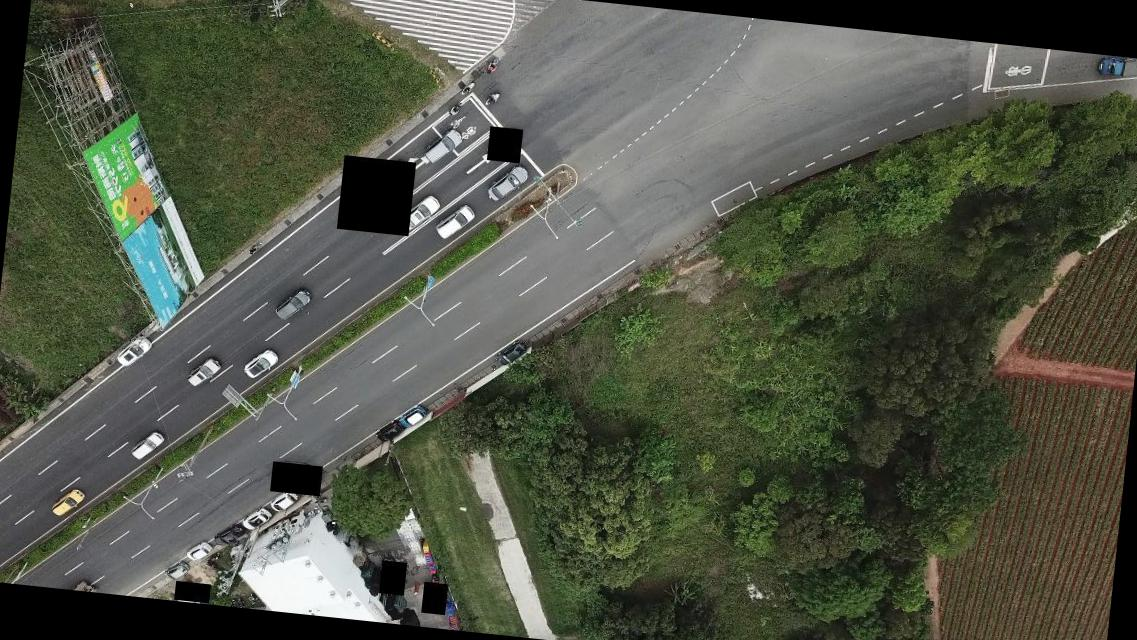vehicle: (487, 161, 528, 204), (398, 192, 439, 234), (422, 127, 462, 168), (434, 202, 474, 242), (275, 286, 314, 323), (116, 334, 152, 368), (242, 348, 280, 380), (130, 430, 164, 462), (186, 356, 220, 388), (50, 487, 84, 518), (496, 338, 526, 368), (376, 418, 404, 446), (214, 523, 244, 549), (270, 488, 298, 514), (242, 506, 270, 531), (186, 539, 214, 562), (400, 402, 425, 427), (166, 560, 188, 580)
